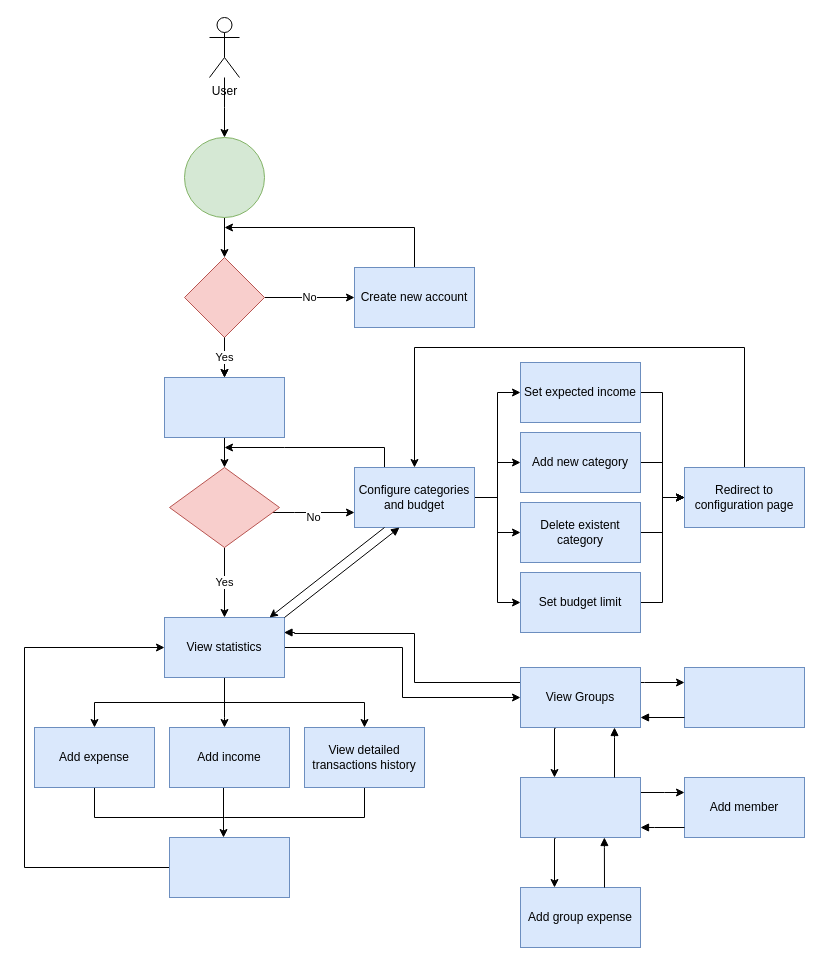
This 822x965 diagram has some shape labels left out. Each missing label, with the centre of its shape:
"Access app" goes at [224,177].
"Create group" goes at [744,697].
"Has an account" goes at [224,297].
"Has an budget configuration" goes at [224,507].
"Login" goes at [224,407].
"Redirect to statistics" goes at [229,867].
"View detailed group" goes at [580,807].
